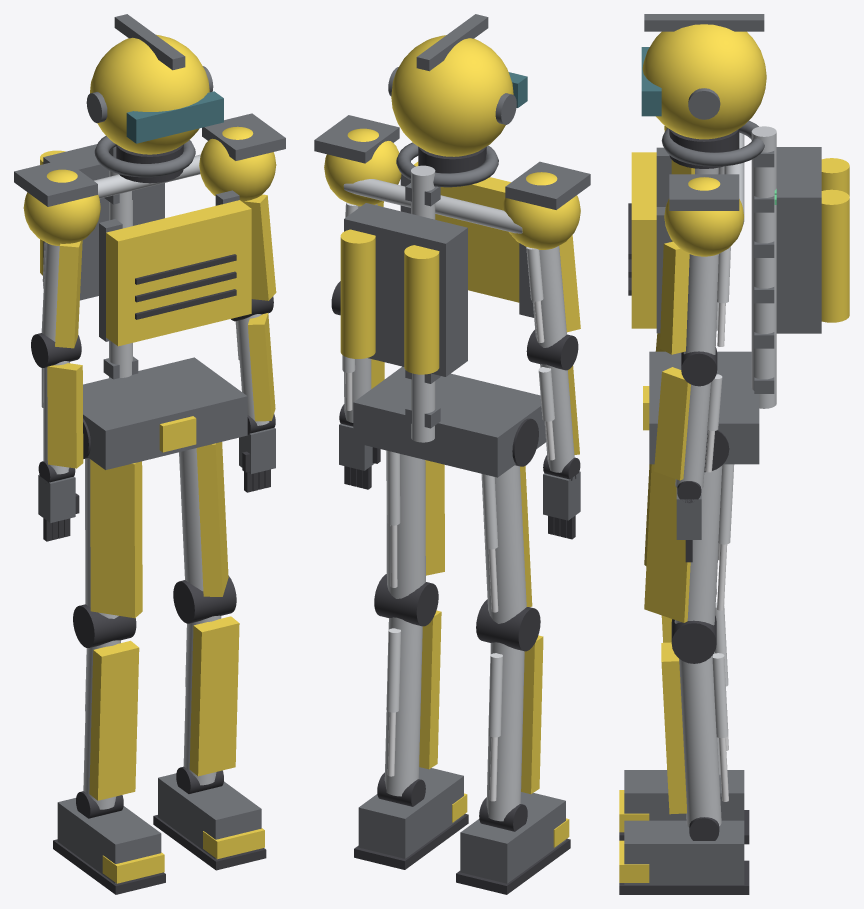
Rendered from exoesqueleto_industrial.glb.
3 views of the same model, side by side, from view 1: azimuth 30°, elevation 25°; view 2: azimuth 150°, elevation 25°; view 3: azimuth 270°, elevation 25° (orthographic). The views are drawn at different scales.
Parts seen in each view (by area): view 1: peto, casco, cinturon, muslo_derecho, pierna_izquierdo, pierna_derecho, muslo_izquierdo, bota_derecho, bota_izquierdo, hombrera_izquierdo, hombrera_derecho, brazo_derecho (+7 smaller); view 2: bateria, casco, cinturon, muslo_izquierdo, pierna_izquierdo, pierna_derecho, muslo_derecho, columna, bota_izquierdo, bota_derecho, peto, brazo_derecho (+6 smaller); view 3: casco, bateria, muslo_izquierdo, pierna_izquierdo, columna, bota_izquierdo, brazo_izquierdo, antebrazo_izquierdo, peto, cinturon, hombrera_izquierdo, bota_derecho (+2 smaller).
Part boxes in pixels (x1,y1,x2,y2): peto: (99,190,251,346); casco: (86,14,223,183); cinturon: (83,357,247,469); muslo_derecho: (73,458,142,647); pierna_izquierdo: (176,615,239,793); pierna_derecho: (76,640,139,818); muslo_izquierdo: (173,442,236,623); bota_derecho: (53,798,165,894); bota_izquierdo: (153,773,266,870); hombrera_izquierdo: (199,113,285,201); hombrera_derecho: (14,159,100,245); brazo_derecho: (31,240,82,367); bateria: (340,203,467,376); casco: (388,14,527,173); cinturon: (353,366,545,477); muslo_izquierdo: (374,450,444,626); pierna_izquierdo: (377,610,441,806); pierna_derecho: (479,635,543,831); muslo_derecho: (476,465,540,651); columna: (343,142,522,442); bota_izquierdo: (354,767,468,869); bota_derecho: (456,792,570,894); peto: (400,161,533,317); brazo_derecho: (526,235,580,370); casco: (641,14,766,168); bateria: (774,147,849,333); muslo_izquierdo: (644,464,734,663); pierna_izquierdo: (661,642,728,840); columna: (661,120,776,408); bota_izquierdo: (619,820,749,894); brazo_izquierdo: (659,241,730,386); antebrazo_izquierdo: (654,367,722,502); peto: (628,147,671,333); cinturon: (643,351,759,472); hombrera_izquierdo: (664,174,744,256); bota_derecho: (619,770,749,844).
Size of the model in its own units: 58 by 185 by 46.1.
